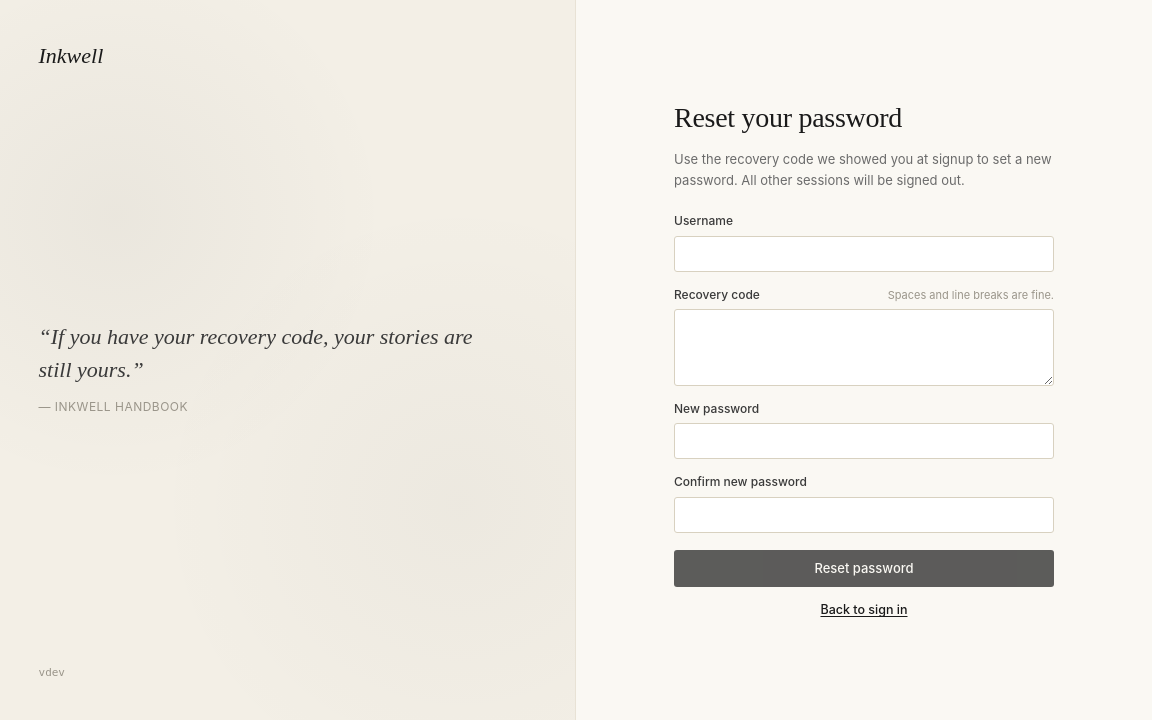
Scenario: reset-password page (F60) › on 429, surfaces a rate-limited message
Expected: the heading "Reset your password" is shown, left=674, top=102, right=902, bottom=133
Type "alice" into the field labelled "Username".
click(864, 254); type("alice")  # box left=674, top=236, right=1054, bottom=272
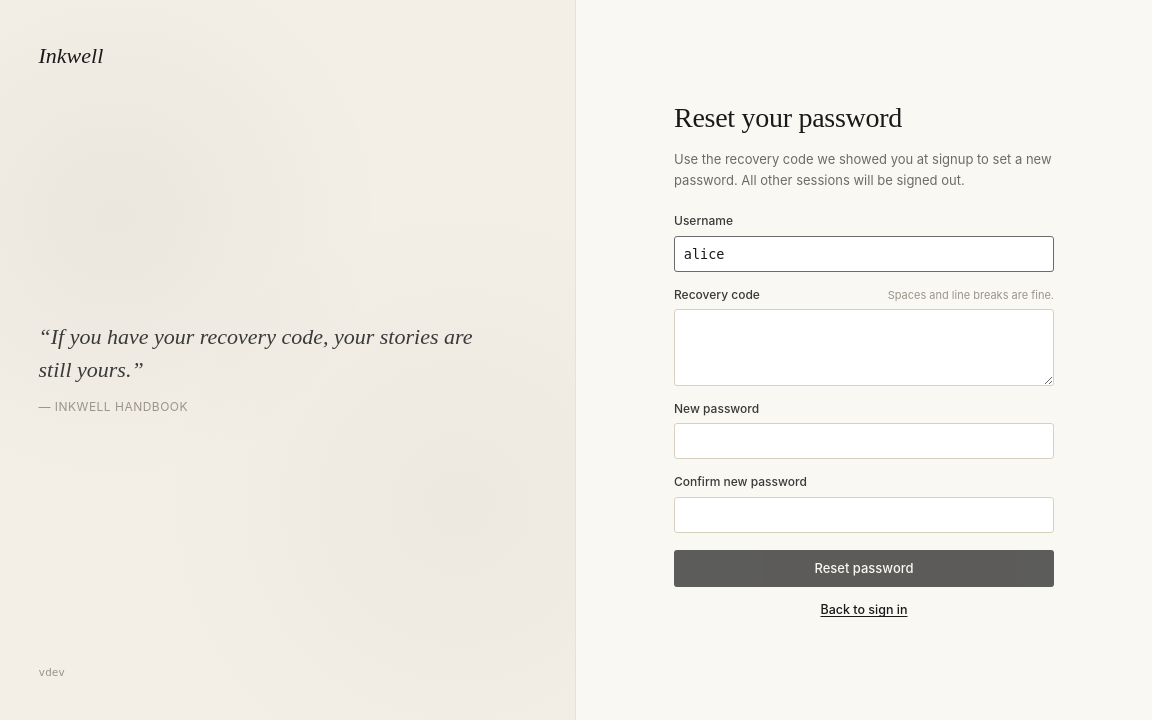
Type "horse-battery-staple" into the text box labelled "Recovery code Spaces and line breaks are fine.".
click(864, 347); type("horse-battery-staple")  # box left=674, top=309, right=1054, bottom=386
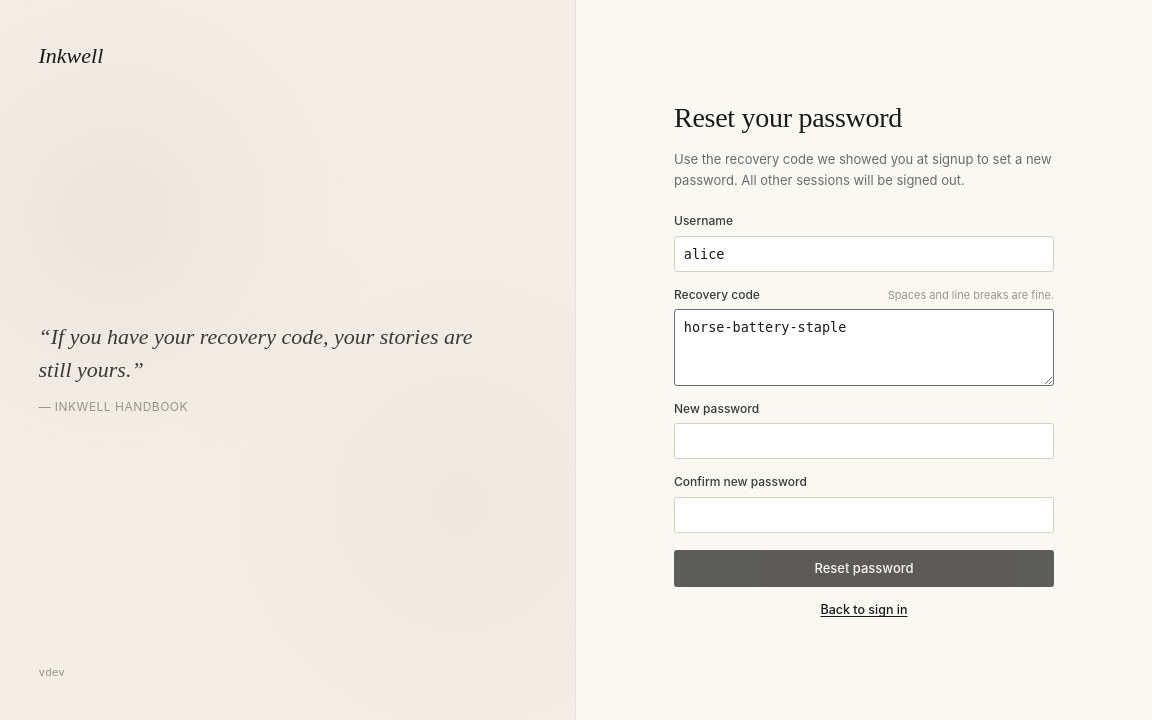
Type "hunter2hunter2" into the password field labelled "New password".
click(864, 441); type("hunter2hunter2")  # box left=674, top=423, right=1054, bottom=459
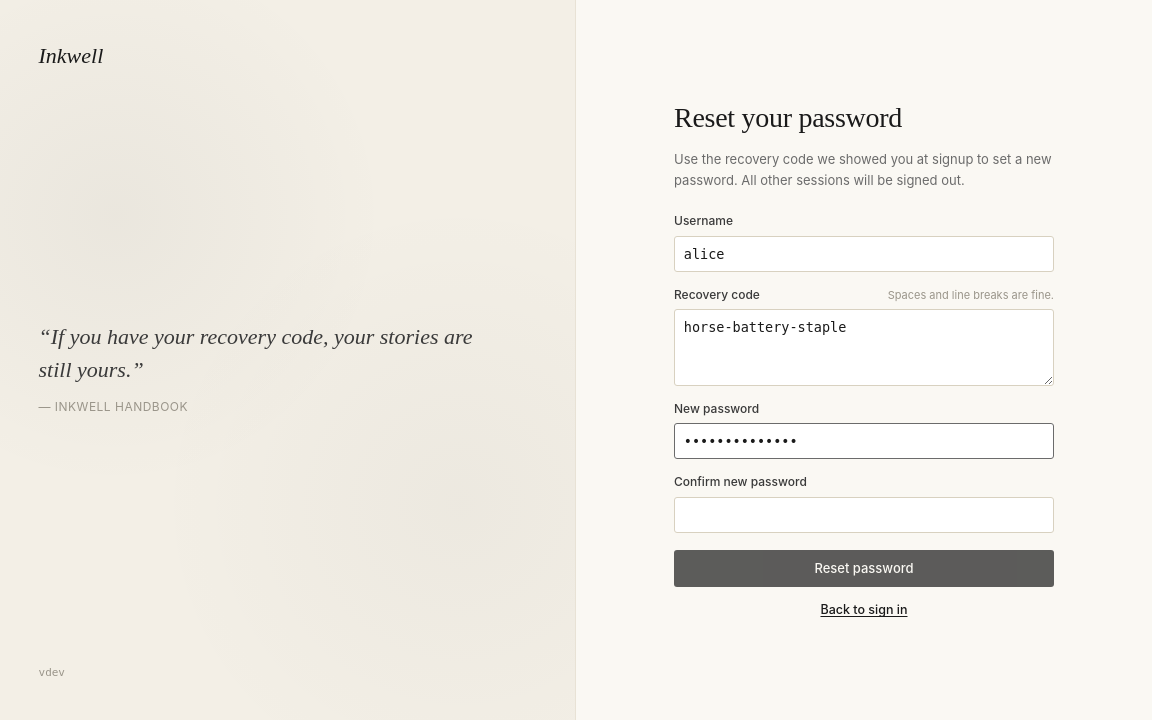
Type "hunter2hunter2" into the password field labelled "Confirm new password".
click(864, 515); type("hunter2hunter2")  # box left=674, top=496, right=1054, bottom=533
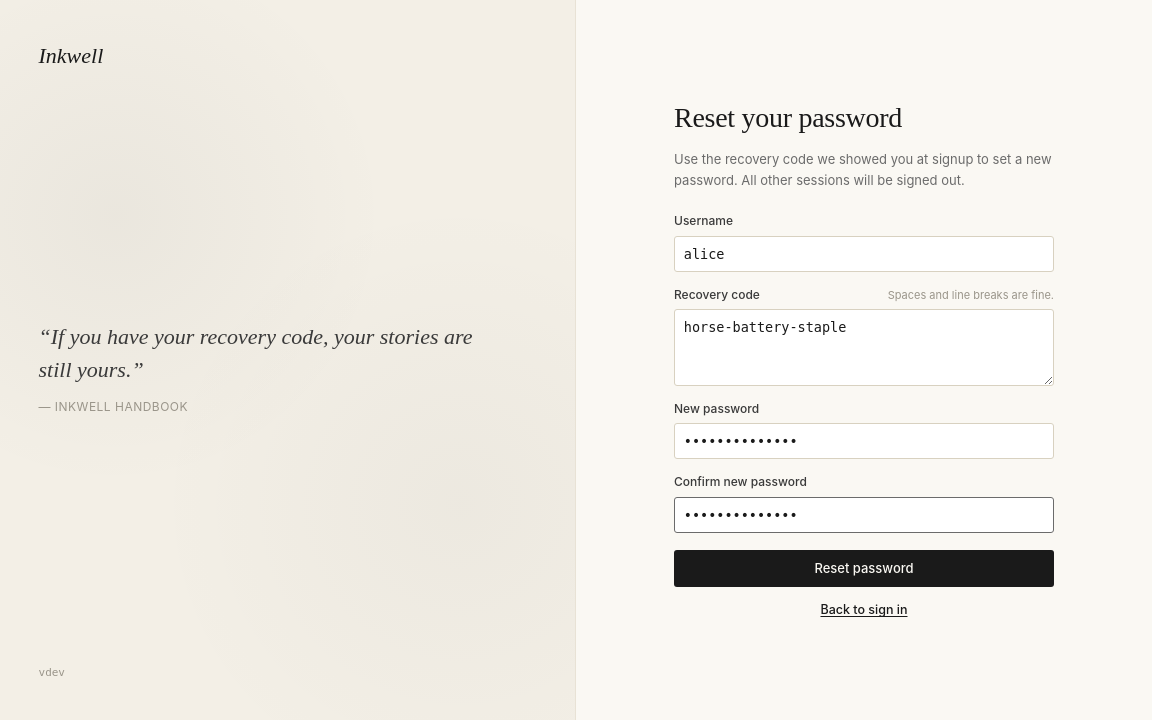
Click the button "Reset password".
click(864, 569)  # box left=674, top=550, right=1054, bottom=587
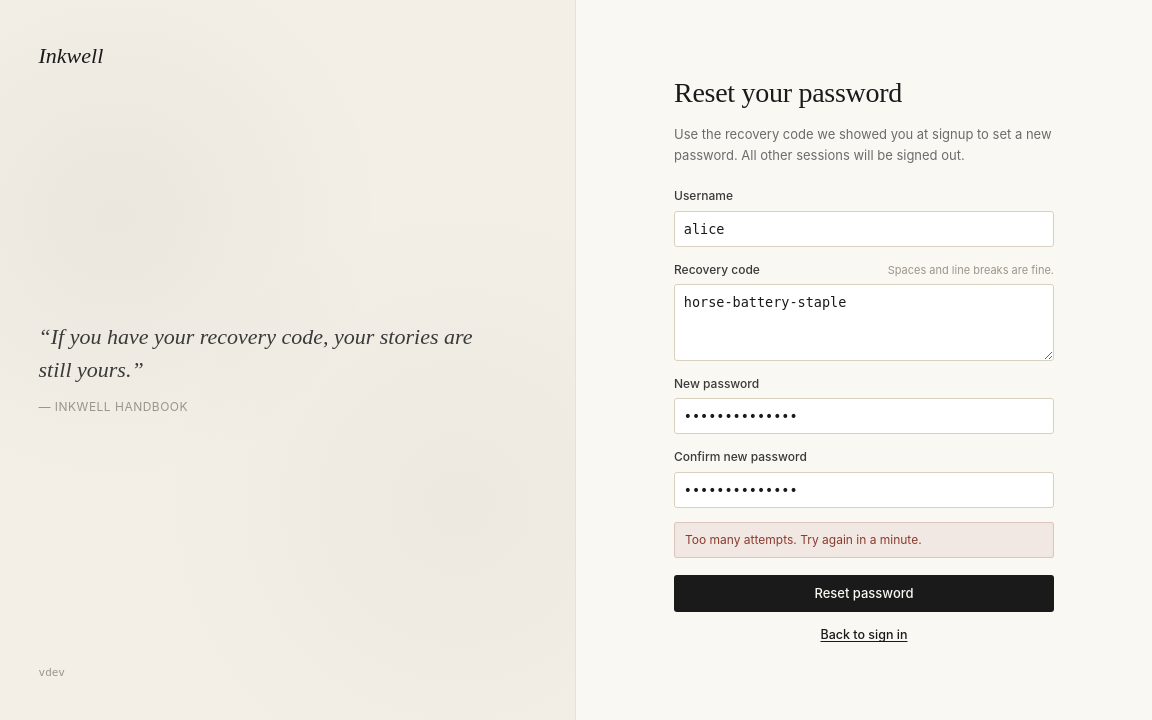
Expected: the message shows "Too many attempts", left=685, top=532, right=922, bottom=547
